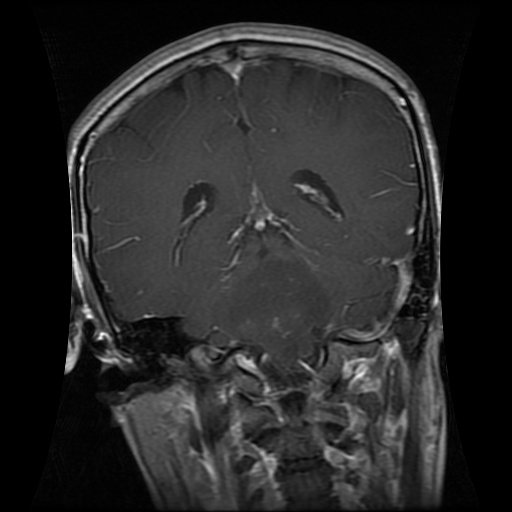glioma: (217, 260, 330, 352)
